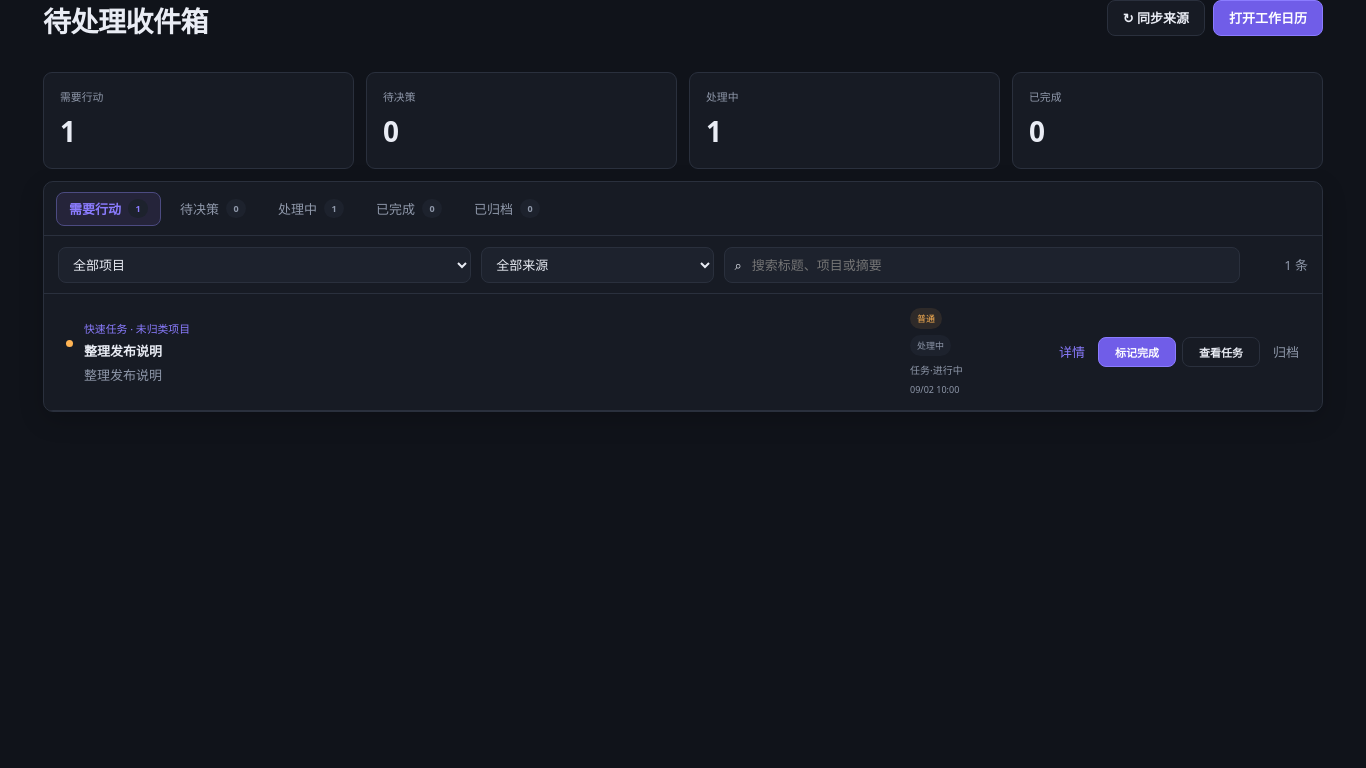
Test: InboxView › 状态已保存但列表同步失败明确提示，查看重试同步已完成状态
What coordinates should you click on to do the following:
click the button "标记完成"
I would click on:
 (1137, 352)
Its box is [1098,337,1176,367].
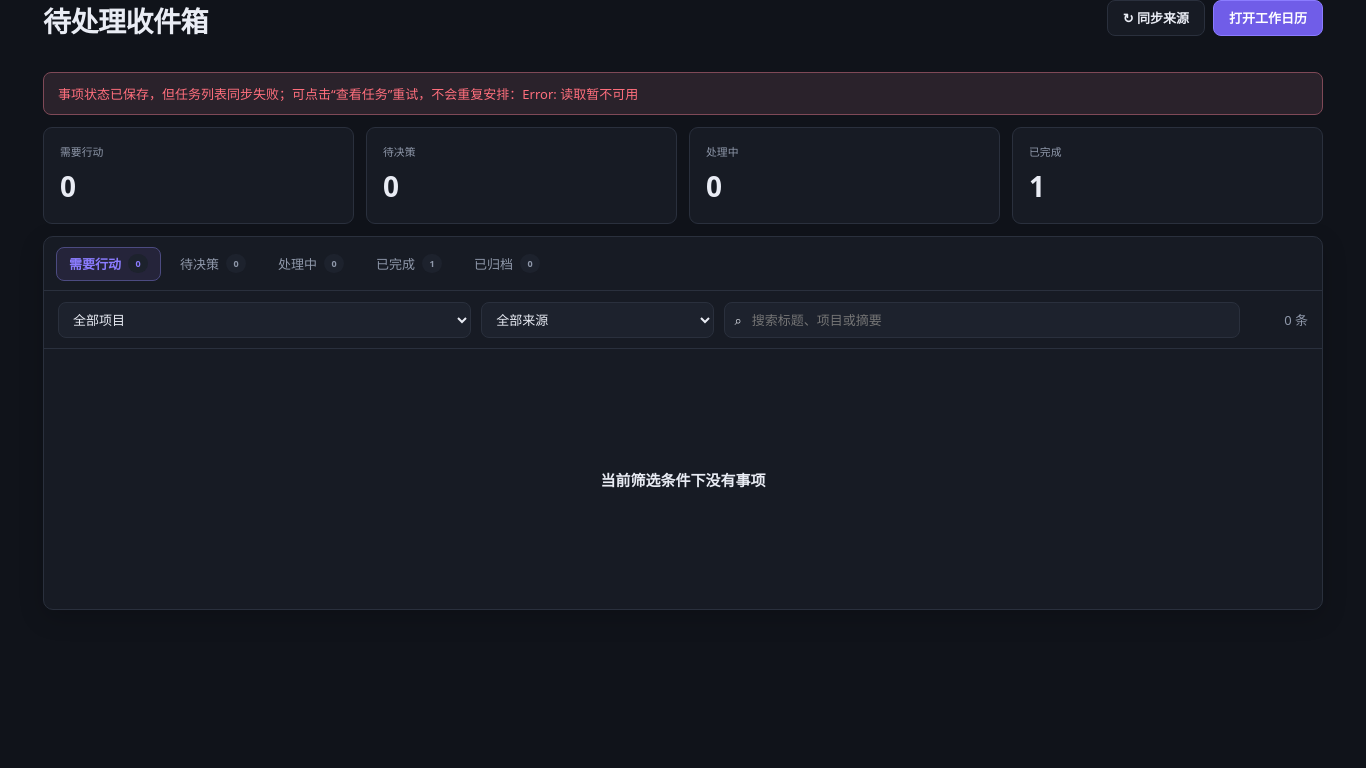
Check: the text with class "inbox-message" shows "事项状态已保存，但任务列表同步失败", box [58,85,638,103]
What coordinates should you click on to do the following:
click the button "已完成 1"
I would click on:
 (409, 264)
Its box is [363,246,455,280].
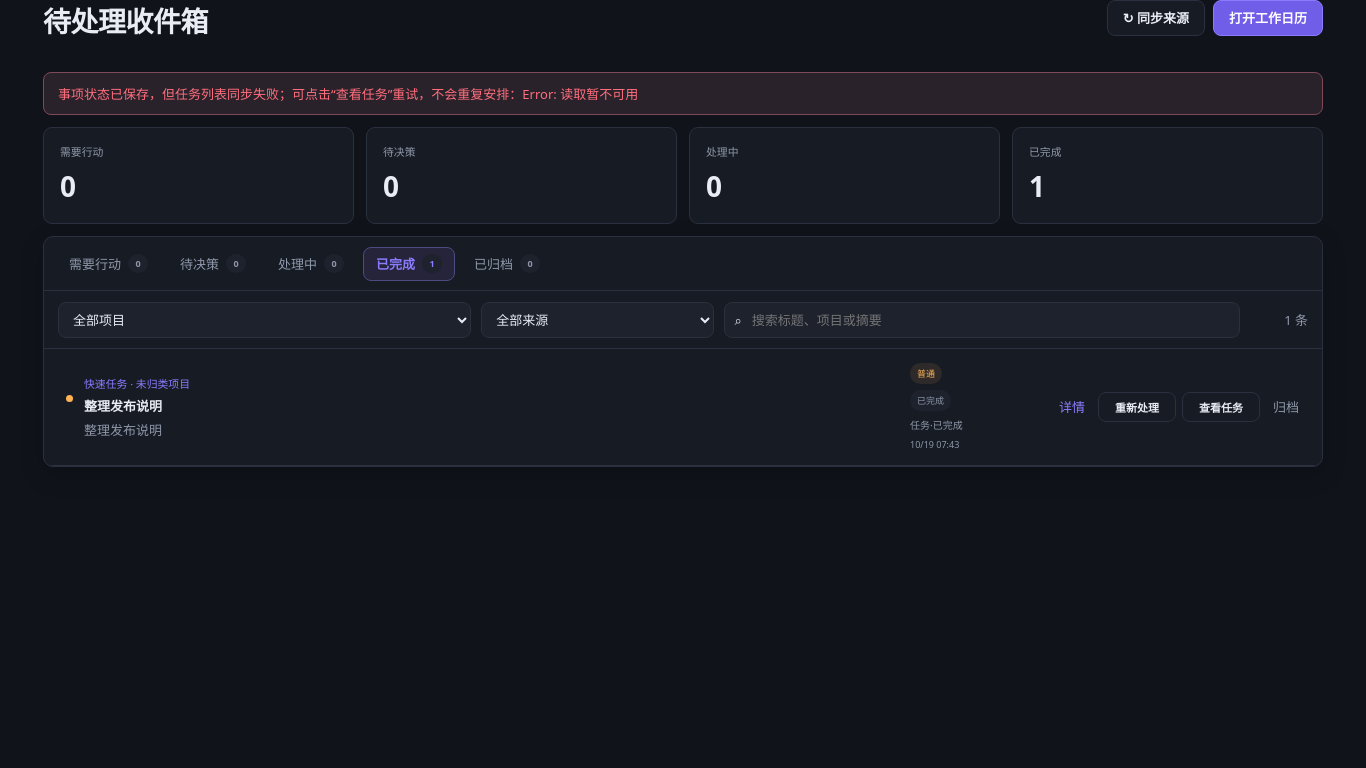
Check: the text "任务·已完成" is shown, box [910,417,963,432]
What coordinates should you click on to do the following:
click the button "查看任务"
I would click on:
 (1221, 407)
Its box is [1182,392,1260,422].
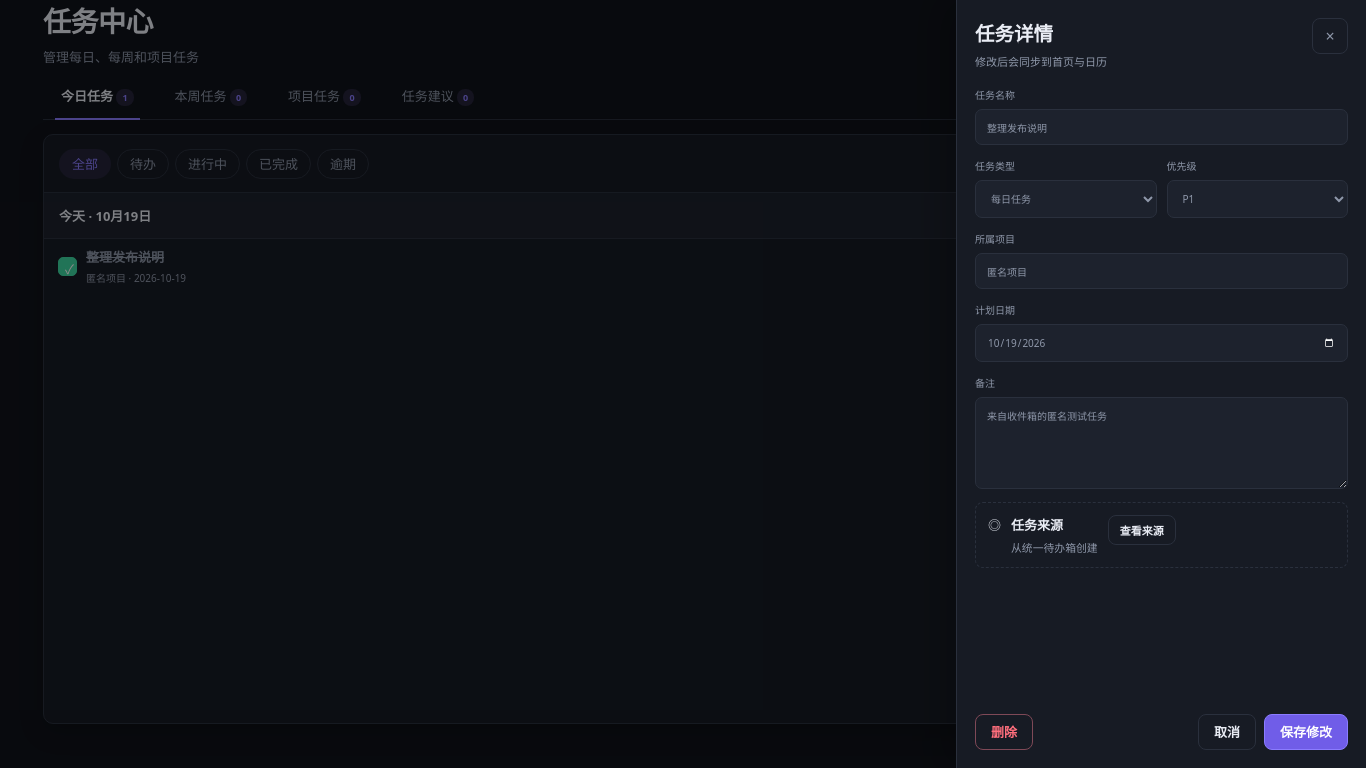
Check: the heading "任务详情" is shown, box [975,20,1053,47]
